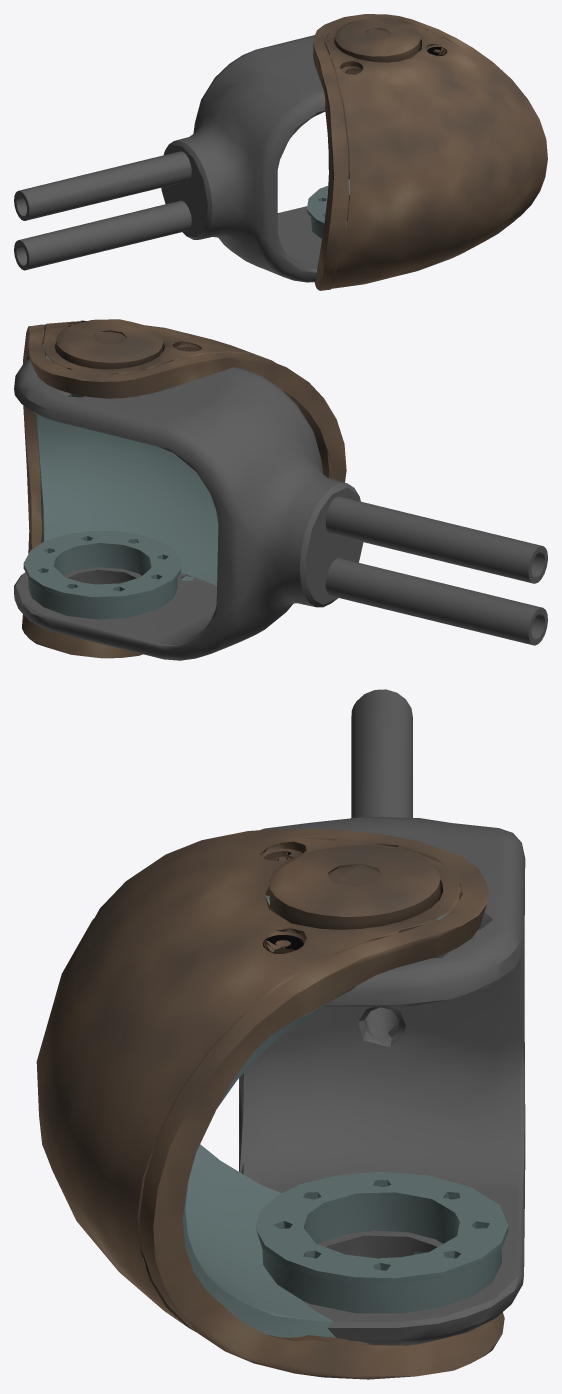
The model's file is forearm_r.dae.
3 views of the same model, one above another, from view 1: azimuth 30°, elevation 25°; view 2: azimuth 150°, elevation 25°; view 3: azimuth 270°, elevation 25° (orthographic). The views are drawn at different scales.
Parts seen in each view (by area): view 1: forearm_r; view 2: forearm_r; view 3: forearm_r.
Boxes of the visible parts, left/top/right/bottom form: forearm_r: left=14, top=14, right=547, bottom=290; forearm_r: left=14, top=319, right=547, bottom=660; forearm_r: left=36, top=689, right=525, bottom=1379.
Bounding box in the file's own units: 0.1591 × 0.0717 × 0.0759.
Materials: 3 (1 with a texture image).
